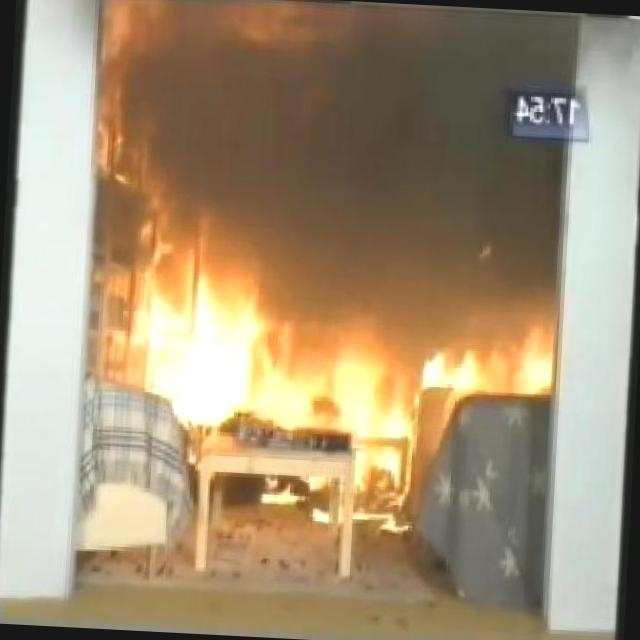fire: (120, 264, 539, 423)
smoke: (99, 0, 574, 302)
